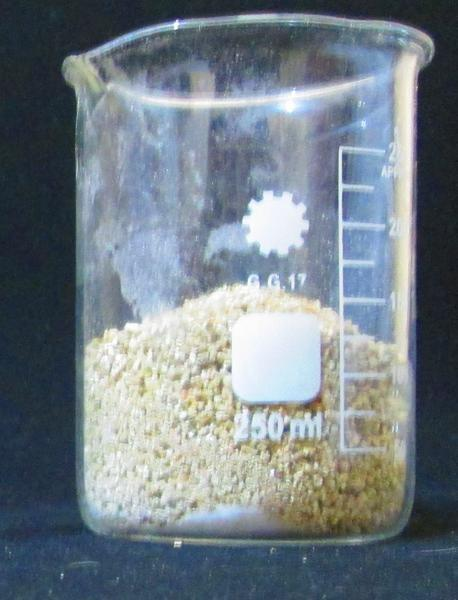Beaker: (44, 11, 434, 548)
